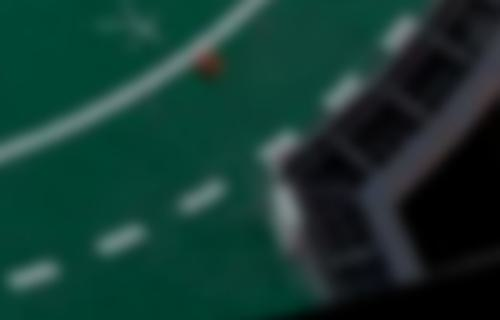Apron: (1, 5, 266, 101)
